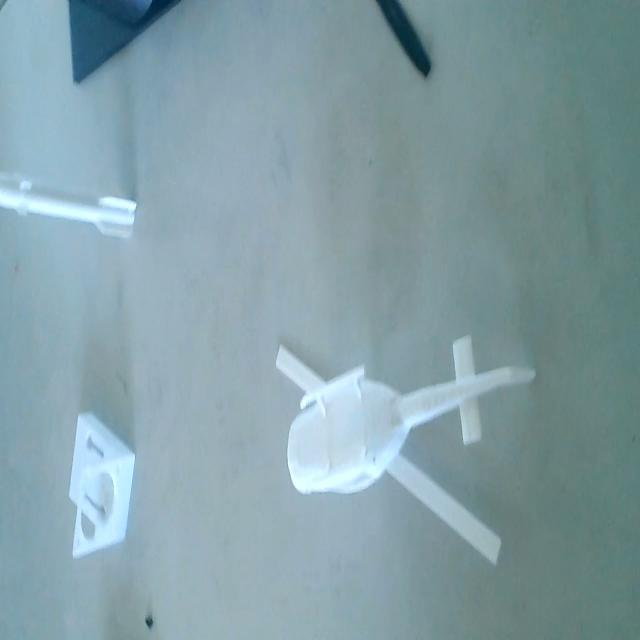Helicopter: (270, 327, 538, 573)
Rocket: (0, 169, 144, 244)
